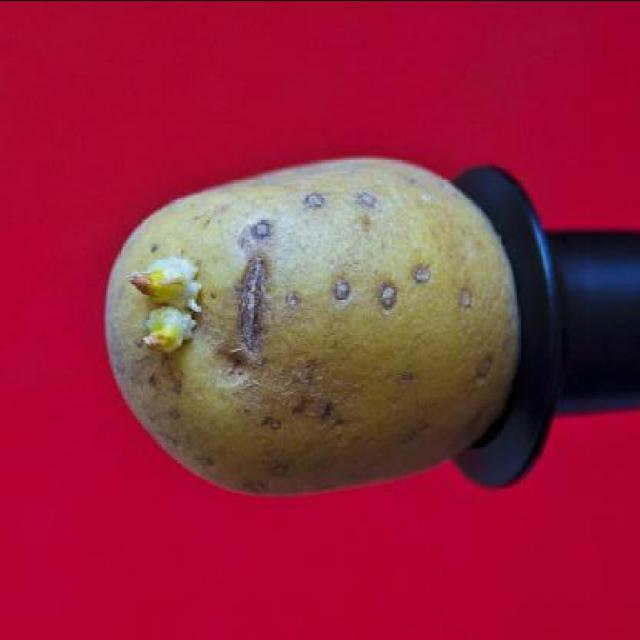Potato: (132, 148, 516, 532)
